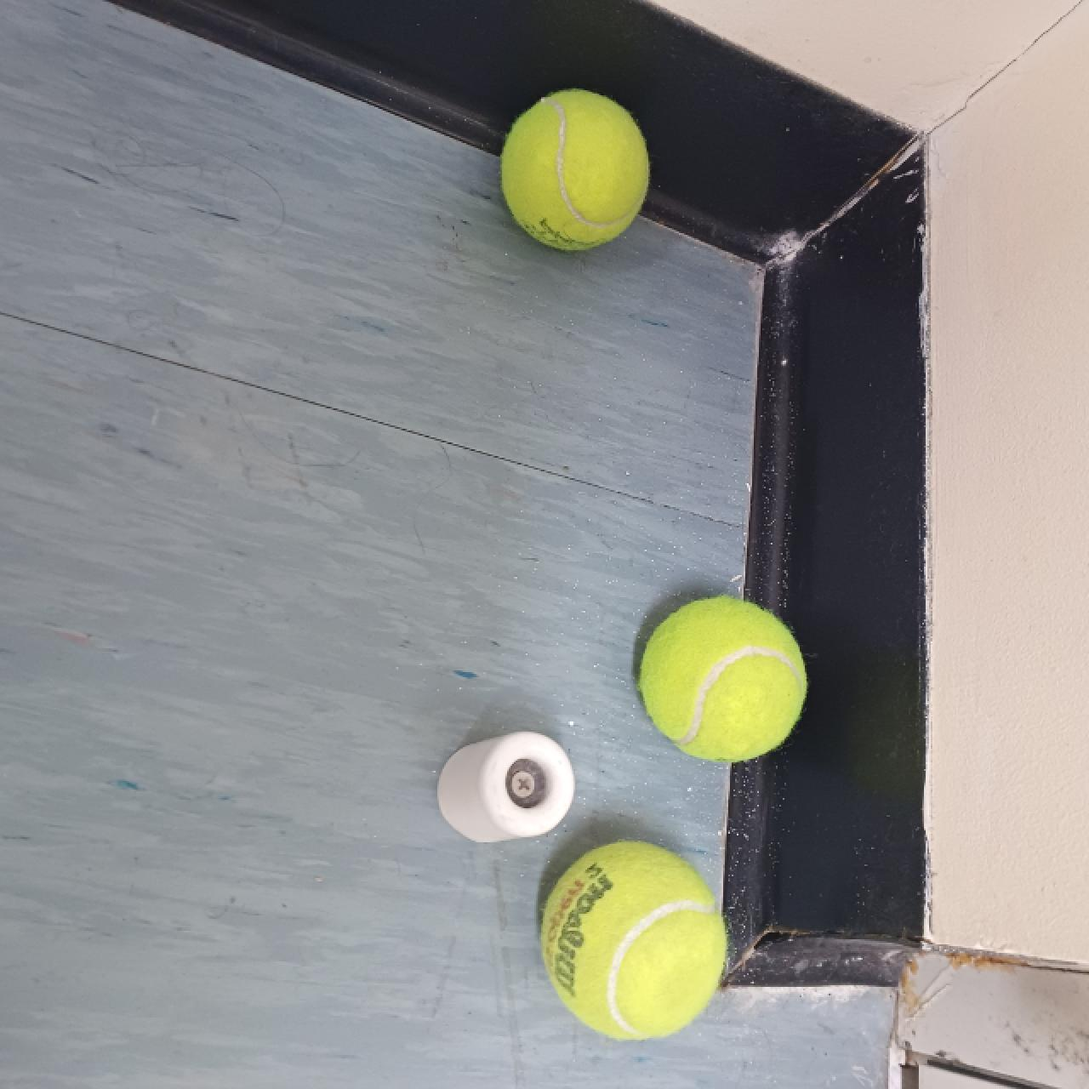tennis-ball: (541, 838, 724, 1041), (634, 592, 809, 760), (500, 88, 651, 252)
